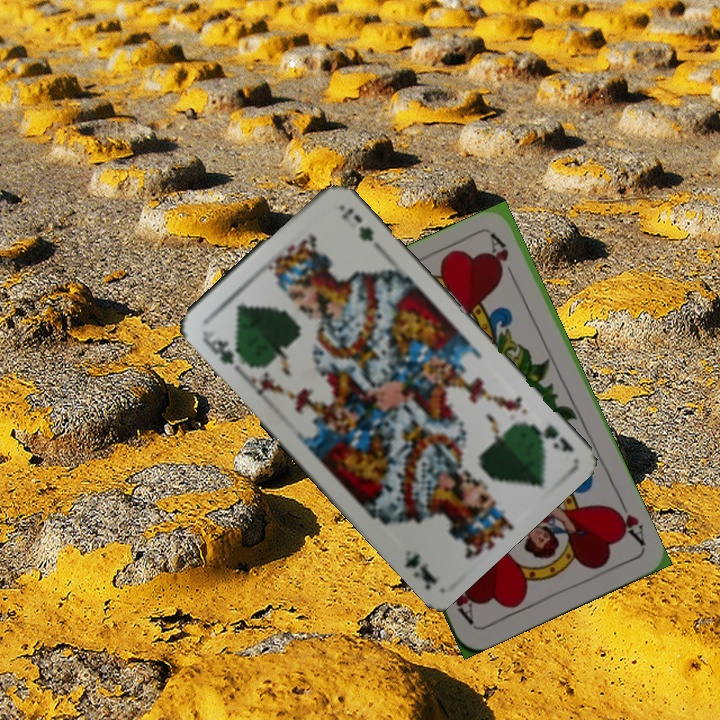GK: (198, 326, 247, 368), (523, 419, 577, 455)
HA: (607, 494, 649, 549)
